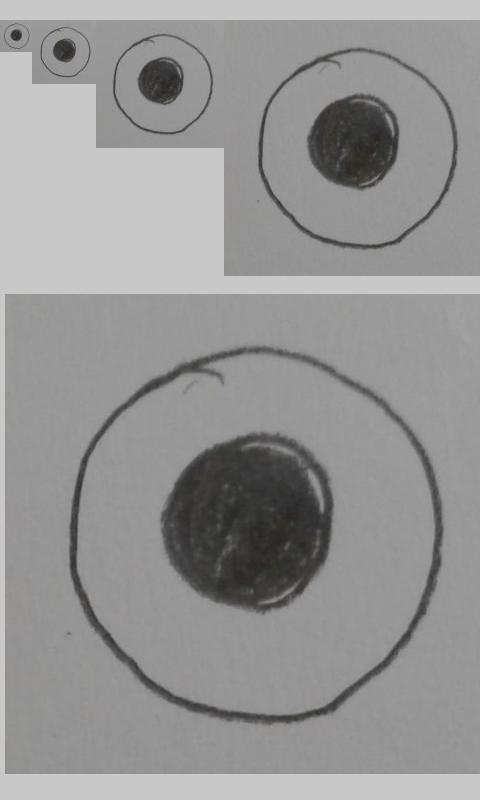radio_button: (64, 341, 446, 726), (255, 44, 460, 253), (112, 33, 214, 135), (40, 26, 92, 78), (3, 22, 30, 49)
